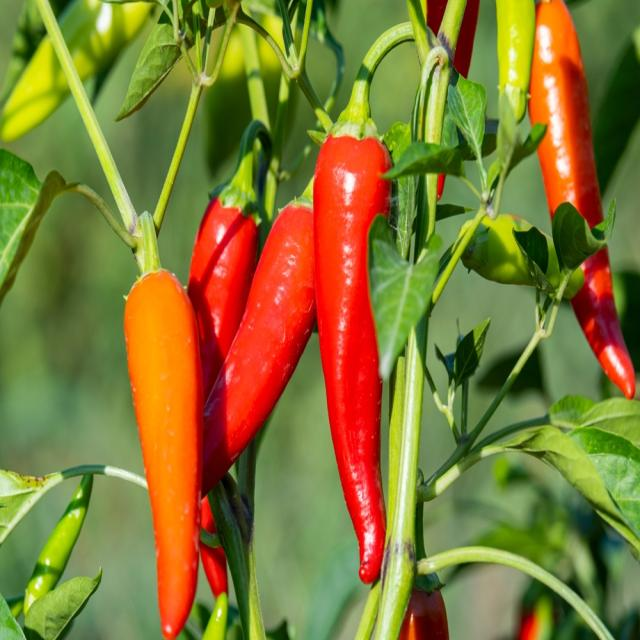Ripe: (529, 2, 640, 400), (314, 135, 391, 583), (202, 202, 316, 494), (124, 270, 204, 639), (188, 198, 258, 398), (399, 588, 449, 640)
Unripe: (462, 215, 585, 301), (24, 474, 92, 614), (497, 0, 535, 121), (202, 592, 229, 640)
